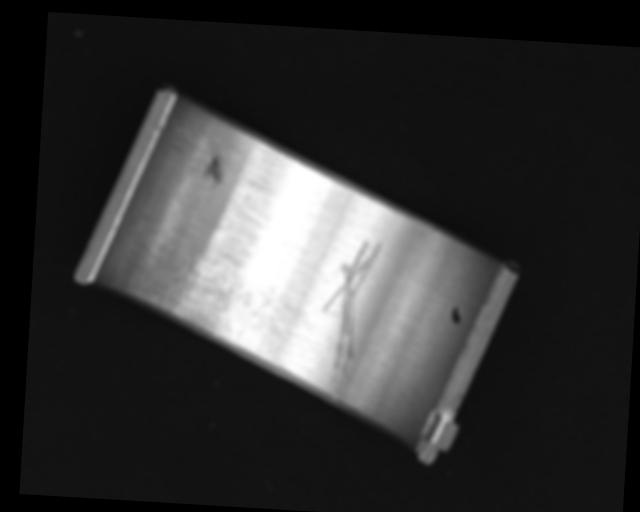blot: (450, 303, 462, 324)
bruise: (201, 153, 224, 185)
nick: (317, 236, 383, 404)
scratch: (144, 245, 287, 353)
